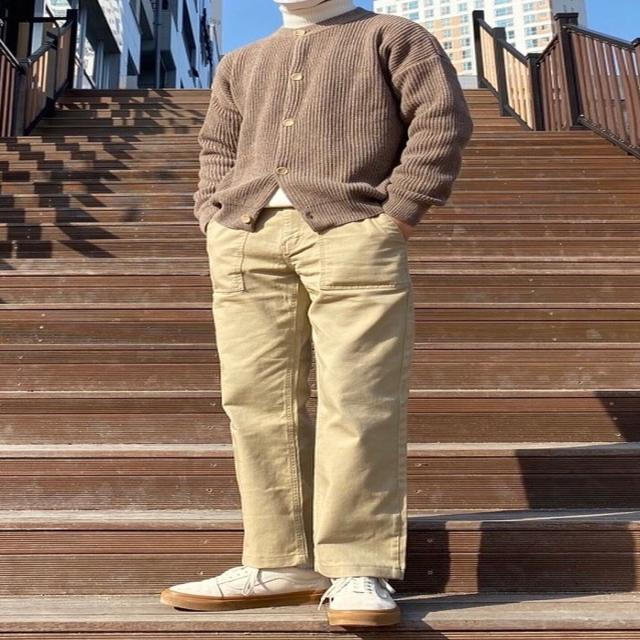cardigan: (194, 9, 471, 232)
cottonpants: (195, 201, 410, 582)
